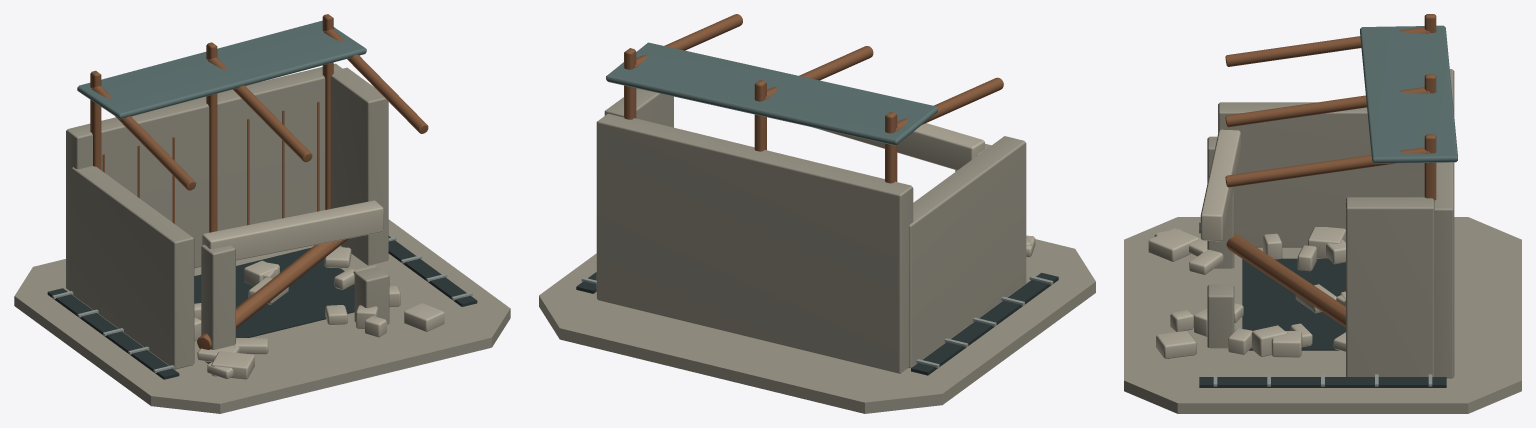
The model's file is ServiceRuin.glb.
The picture shows the model from 3 angles, left to right: view 1: azimuth 30°, elevation 25°; view 2: azimuth 150°, elevation 25°; view 3: azimuth 270°, elevation 25°; orthographic projection. The views are drawn at different scales.
Parts seen in each view (by area): view 1: Service foundation.001, Rear fractured wall, West wall, Surviving roof panel, East pier, Door lintel, Burned floor, Broken column, Fallen beam, Drainage slot.002, Low broken column, Steel upright.001 (+11 smaller); view 2: Rear fractured wall, Service foundation.001, West wall, Surviving roof panel, Door lintel, Drainage slot.002, East pier, Roof truss, Roof truss.002, Roof truss.001, Steel upright, Steel upright.001 (+1 smaller); view 3: Service foundation.001, West wall, East pier, Surviving roof panel, Burned floor, Rear fractured wall, Door lintel, Drainage slot.003, Fallen beam, Roof truss.002, Roof truss.001, Roof truss (+14 smaller).
Part boxes in pixels (box(x1,y1,x2,y2)): Service foundation.001: box(14, 219, 510, 413); Rear fractured wall: box(66, 63, 342, 291); West wall: box(71, 166, 194, 369); Surviving roof panel: box(77, 20, 366, 119); East pier: box(330, 67, 388, 265); Door lintel: box(202, 200, 383, 260); Burned floor: box(194, 247, 354, 337); Broken column: box(201, 244, 235, 363); Fallen beam: box(197, 238, 348, 349); Drainage slot.002: box(47, 288, 179, 379); Low broken column: box(354, 267, 389, 324); Steel upright.001: box(206, 42, 217, 232); Rear fractured wall: box(596, 113, 913, 373); Service foundation.001: box(539, 239, 1095, 413); West wall: box(908, 136, 1026, 368); Surviving roof panel: box(606, 42, 937, 145); Door lintel: box(813, 123, 984, 170); Drainage slot.002: box(911, 272, 1058, 375); East pier: box(604, 88, 673, 127); Roof truss: box(895, 77, 1003, 131); Roof truss.002: box(634, 14, 742, 67); Roof truss.001: box(765, 46, 873, 99); Steel upright: box(885, 112, 897, 183); Steel upright.001: box(754, 80, 766, 151); Service foundation.001: box(1124, 217, 1521, 413); West wall: box(1218, 102, 1424, 247); East pier: box(1346, 197, 1434, 376); Surviving roof panel: box(1360, 25, 1457, 163); Burned floor: box(1242, 258, 1345, 350); Rear fractured wall: box(1434, 69, 1454, 378); Door lintel: box(1200, 129, 1240, 241); Drainage slot.003: box(1199, 377, 1446, 387); Fallen beam: box(1226, 233, 1345, 327); Roof truss.002: box(1225, 147, 1429, 187); Roof truss.001: box(1225, 87, 1429, 127); Roof truss: box(1225, 27, 1429, 66).
Size of the model in its own units: 8.2 by 5.04 by 7.4.
